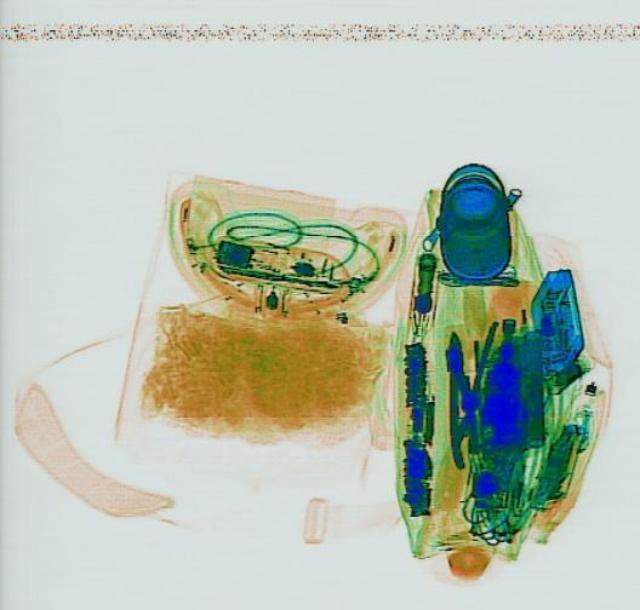Pliers: (438, 328, 480, 465)
